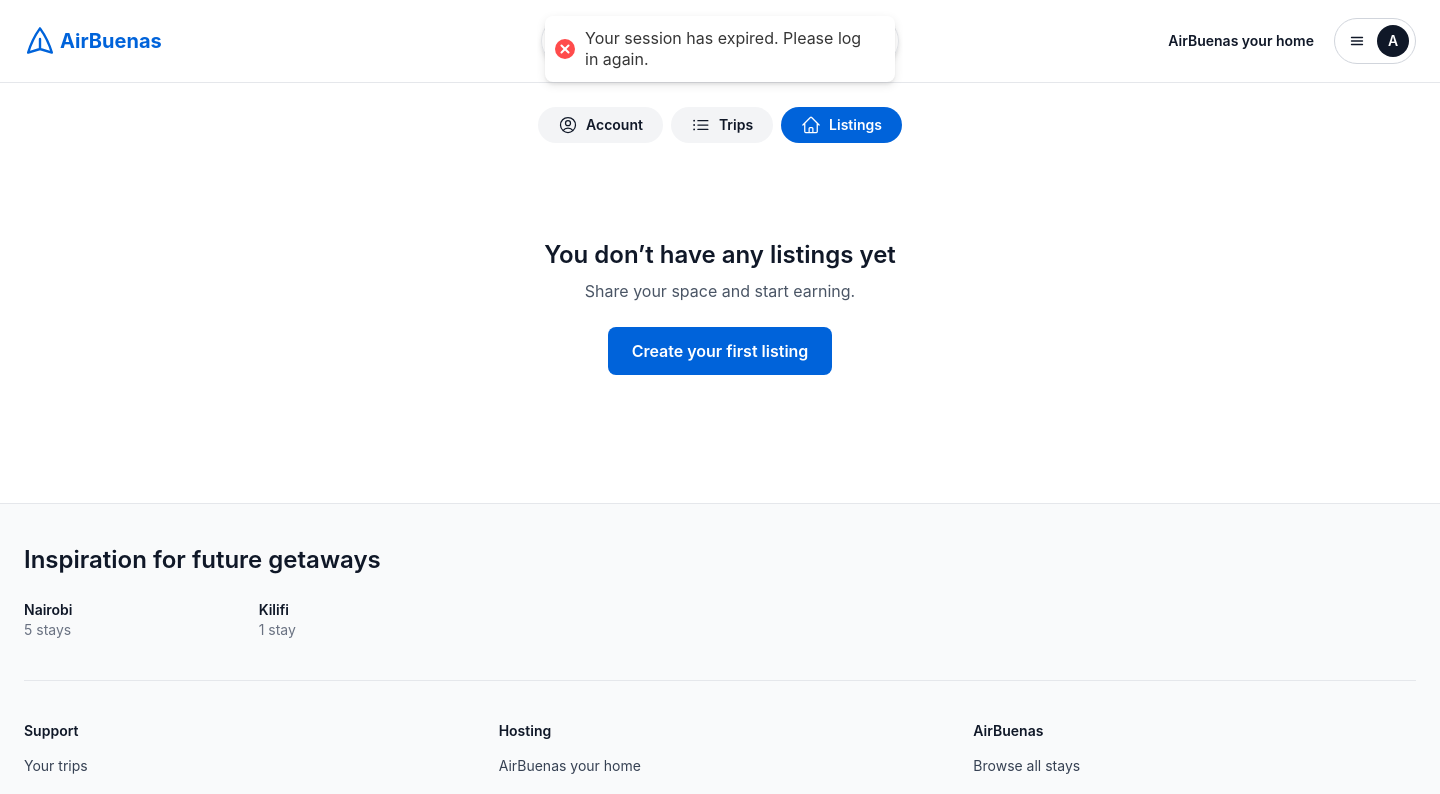
Test: Header and UserMenu › shows the signed-in menu, navigates and logs out from a protected page
The image size is (1440, 794).
Expected: the text "A" is shown, x1=1377 y1=25 x2=1409 y2=57
Step 1. Click the button named "Account menu for Amina" → {"x": 1375, "y": 41}, box x1=1334 y1=18 x2=1416 y2=64
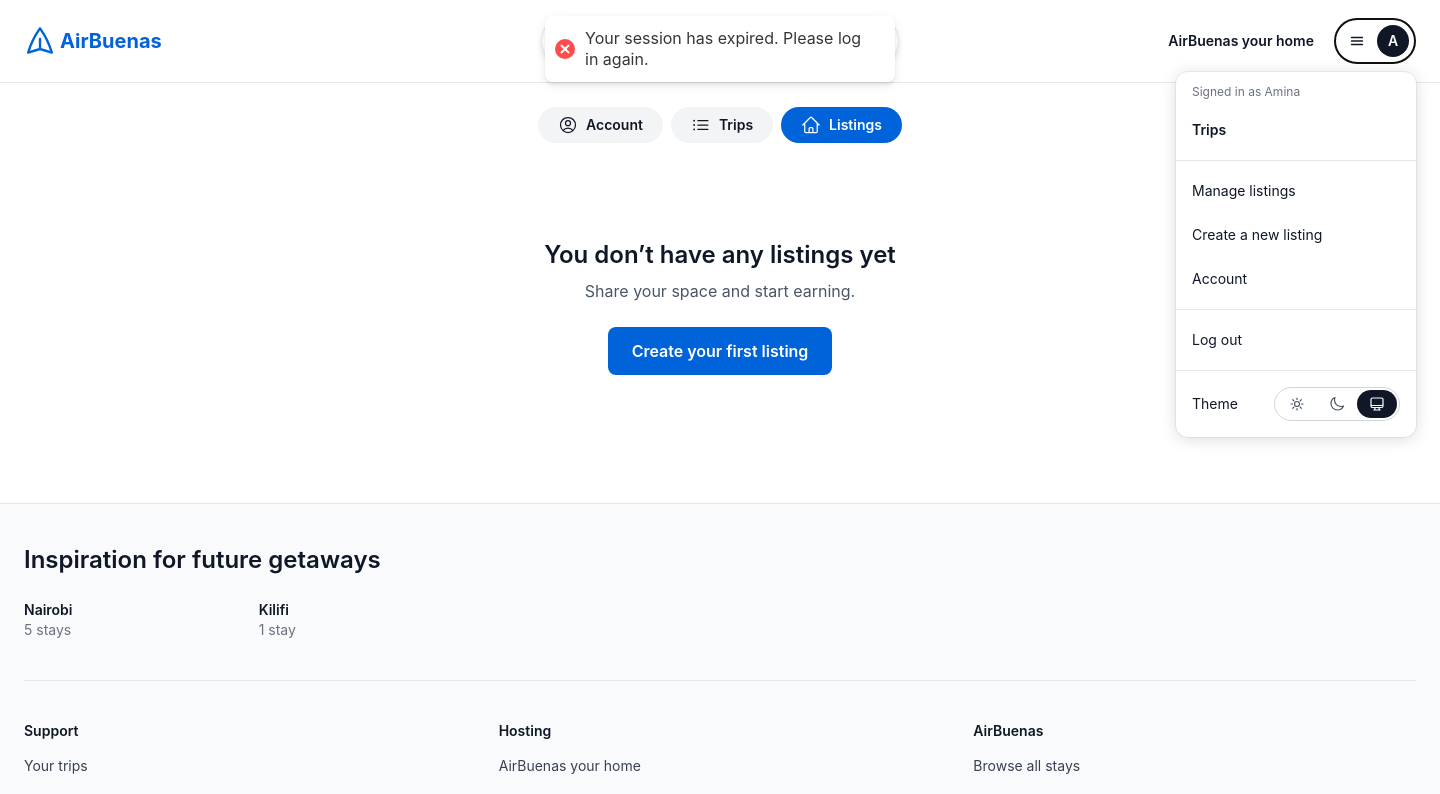
Expected: the menu items read "Trips", "Manage listings", "Create a new listing", "Account", "Log out", in this order
Step 2. Click the menu item "Account" → {"x": 1220, "y": 278}, box x1=1192 y1=270 x2=1247 y2=287
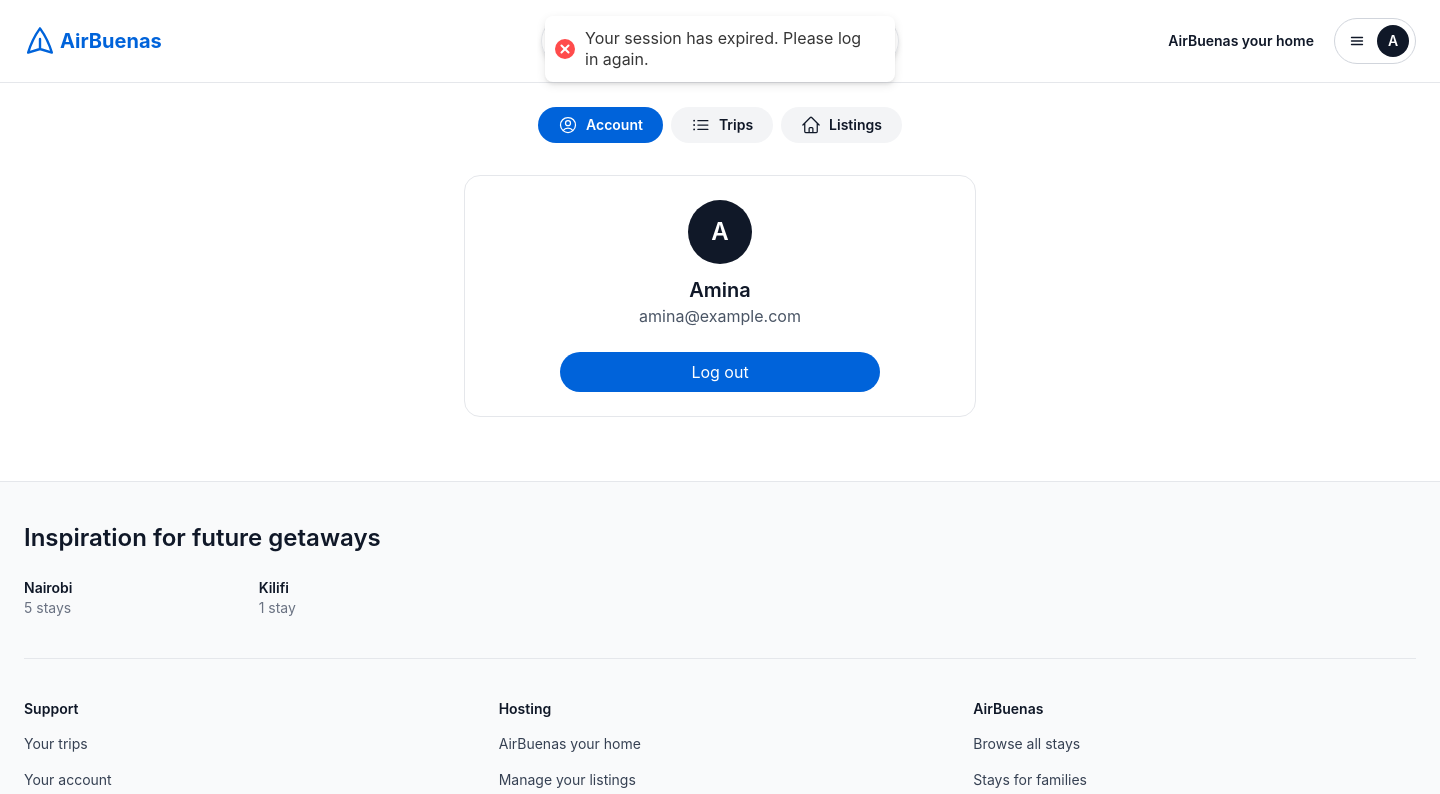
Step 3. Click the button named "Account menu for Amina" → {"x": 1375, "y": 41}, box x1=1334 y1=18 x2=1416 y2=64
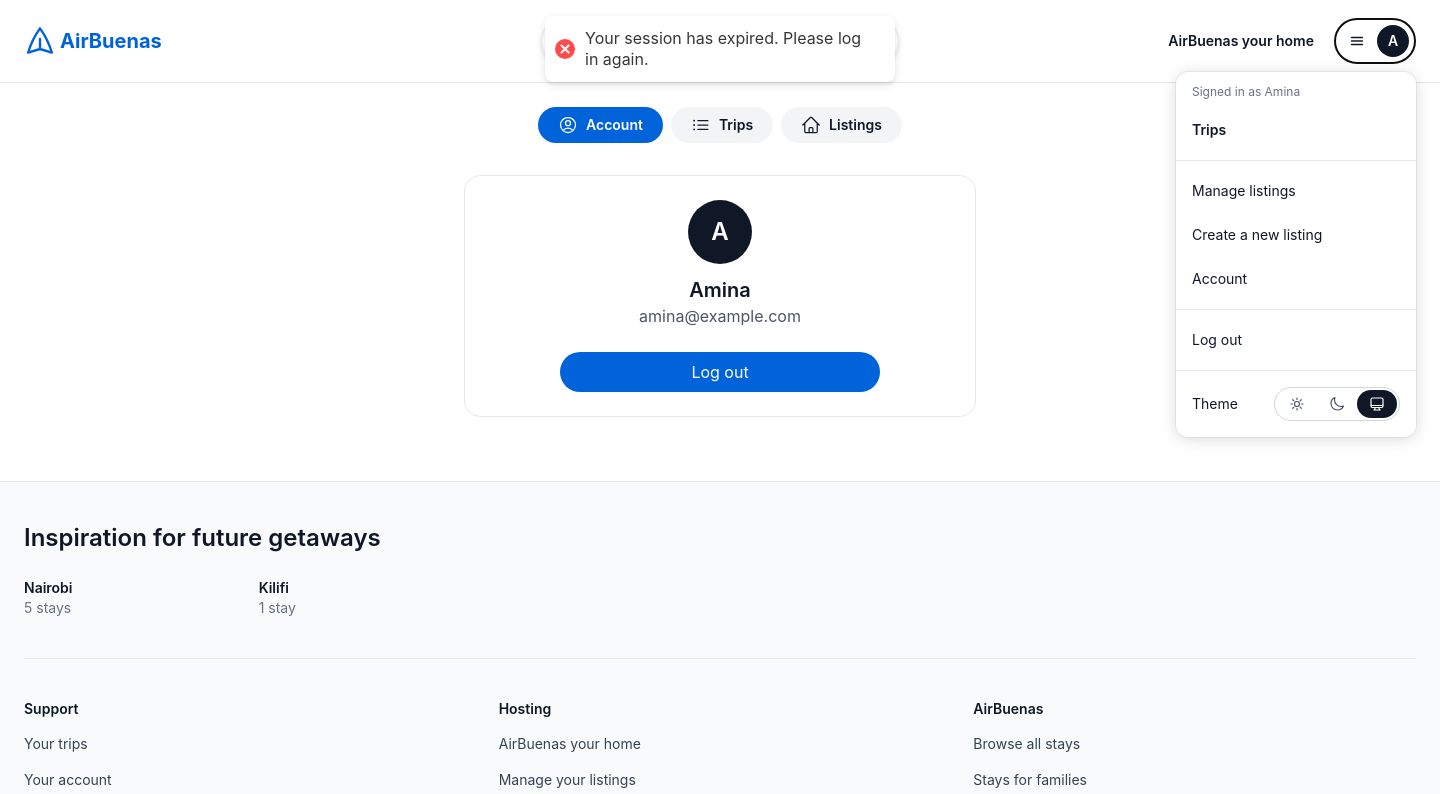
Step 4. Click the menu item "Log out" → {"x": 1296, "y": 340}, box x1=1176 y1=318 x2=1416 y2=362
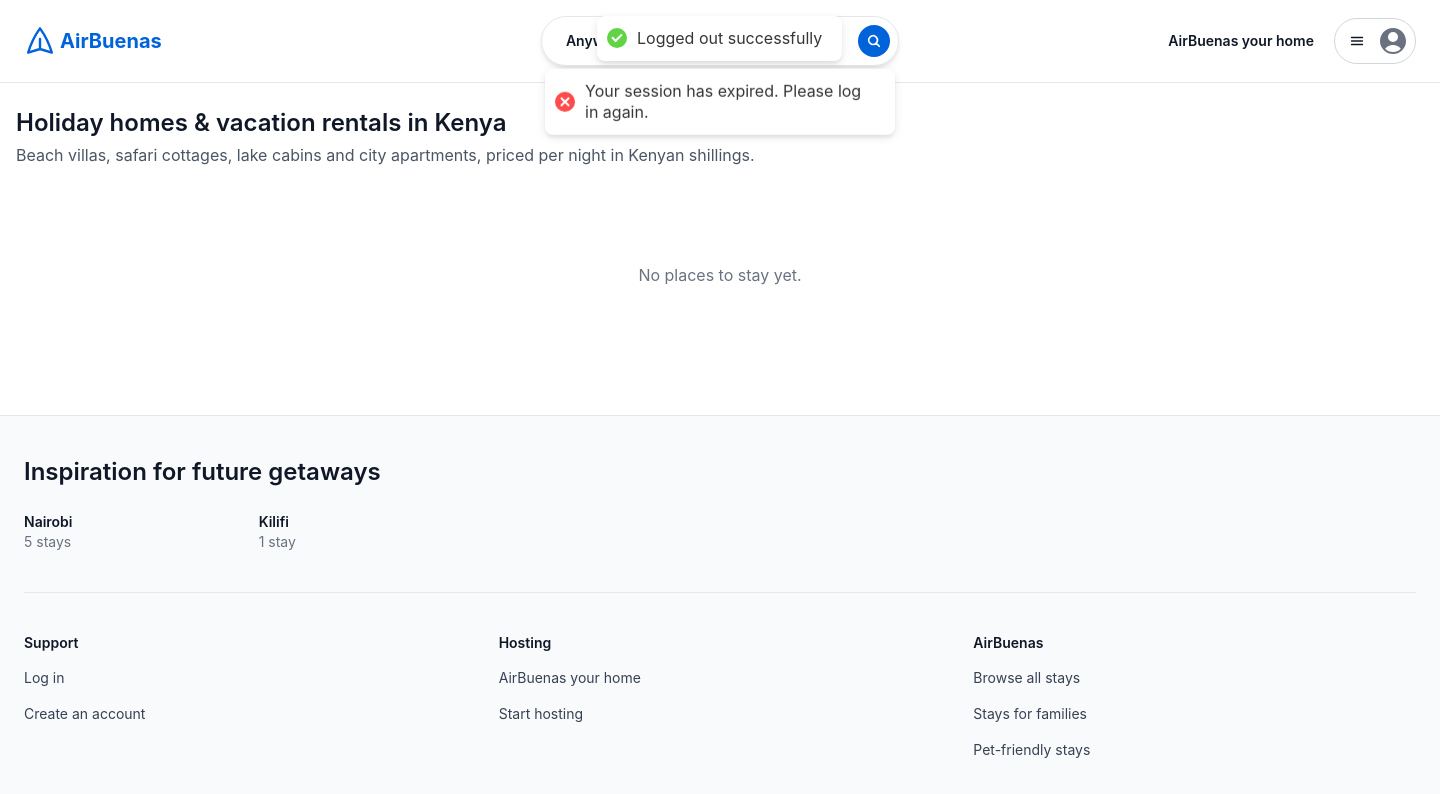
Expected: the button named "Main menu" is shown, x1=1334 y1=18 x2=1416 y2=64
